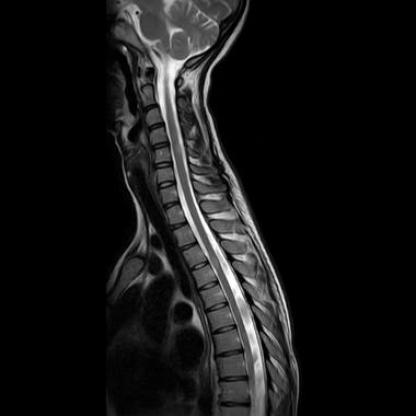Disc Bulgerotation: (151, 138, 169, 151)
